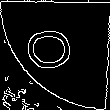O_E: (28, 33, 82, 77)
